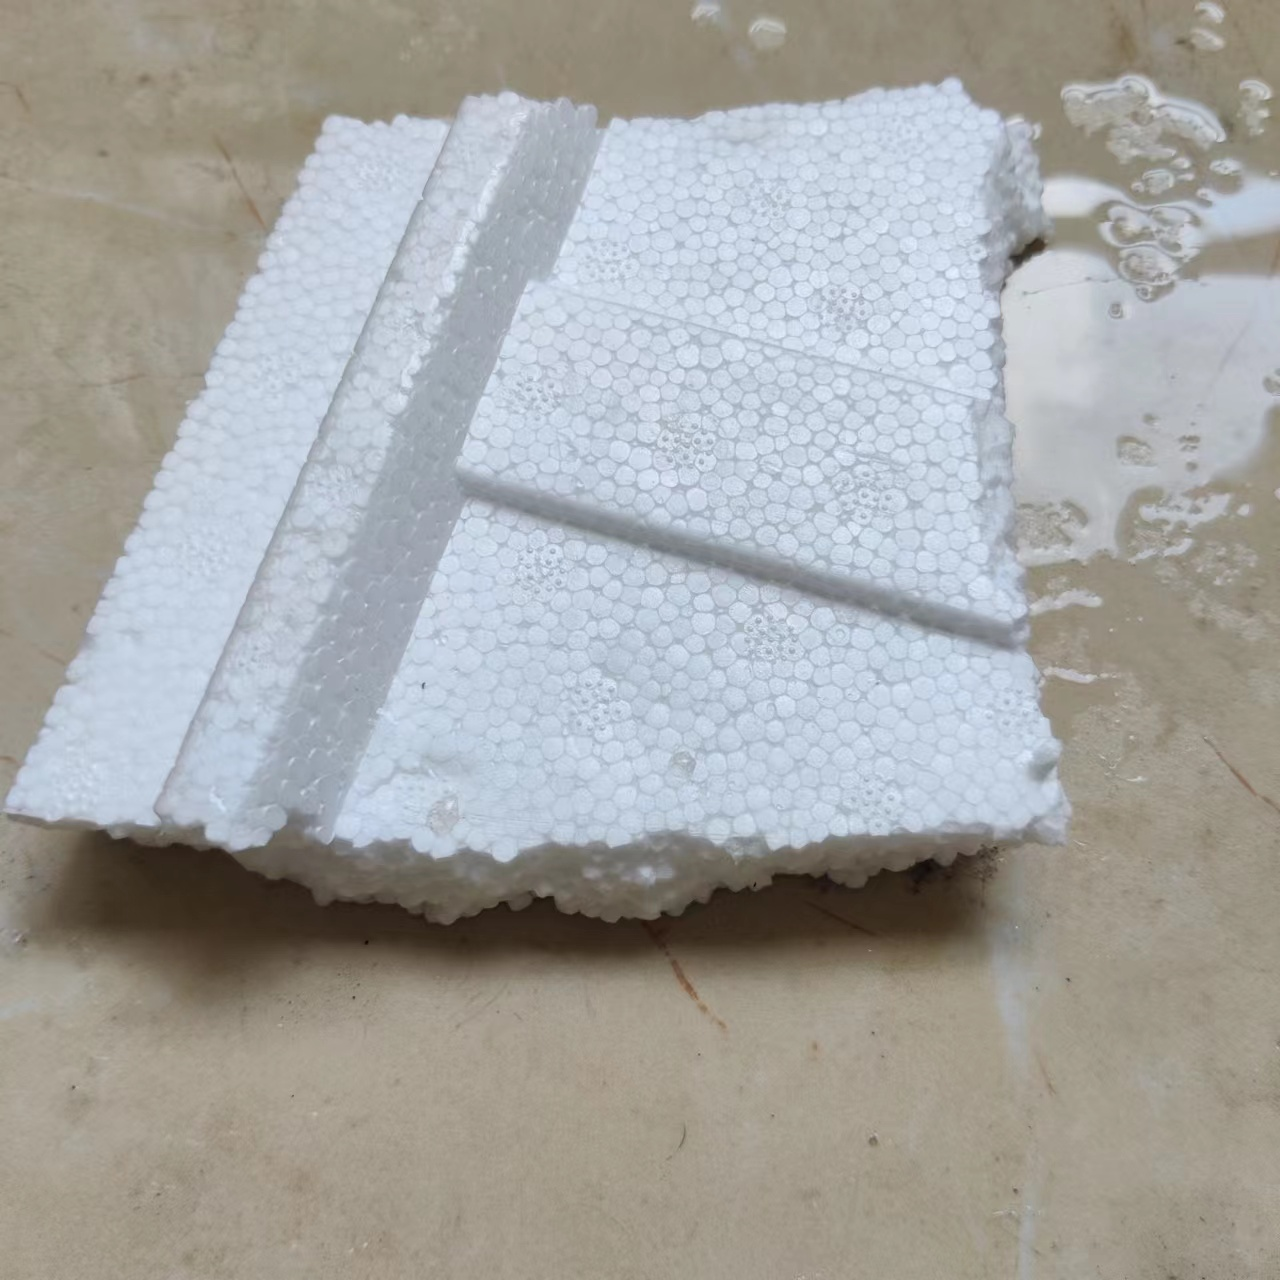5/可回收垃圾/泡沫: (2, 77, 1071, 926)
